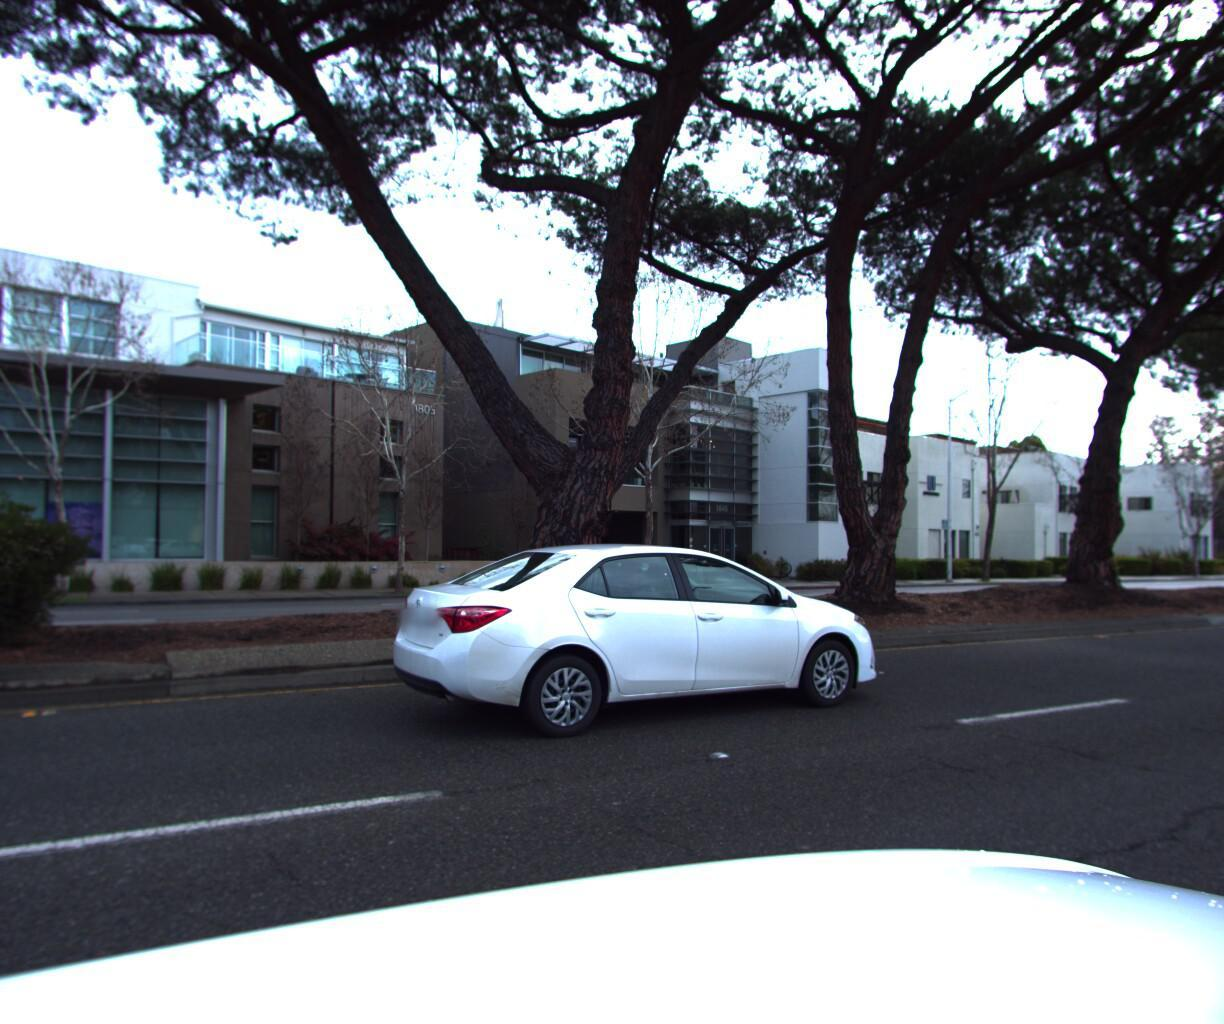car: (373, 538, 891, 765)
